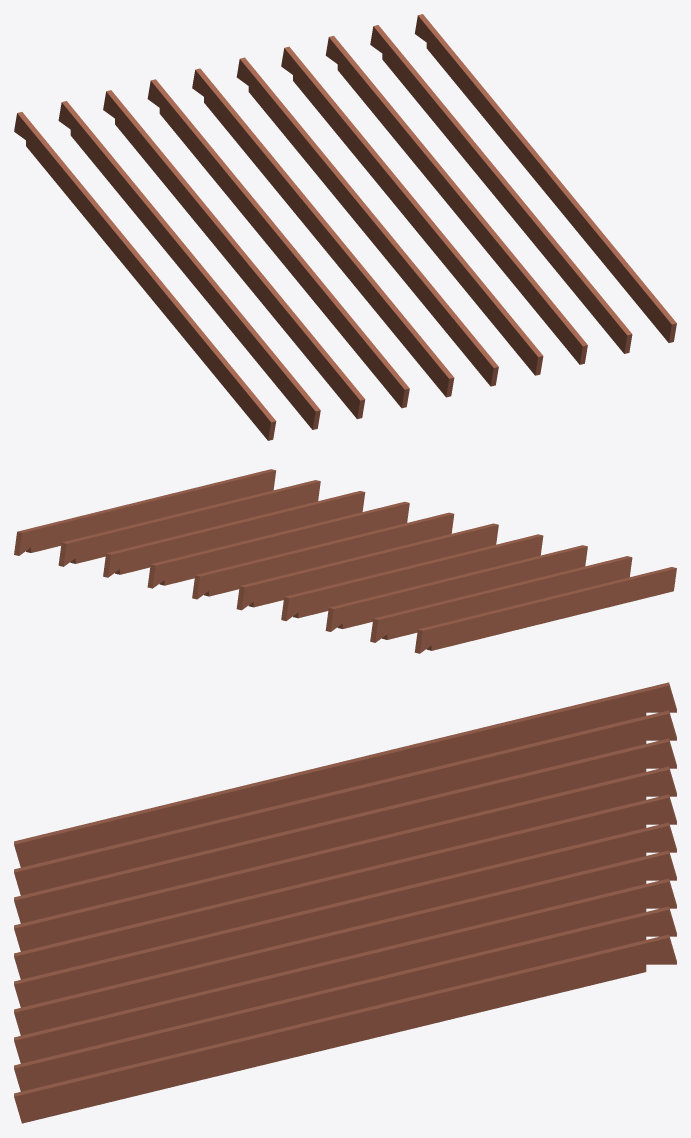
File: SM_Porch_Roof.fbx
The picture shows the model from 3 angles, top to bottom: view 1: azimuth 30°, elevation 25°; view 2: azimuth 150°, elevation 25°; view 3: azimuth 270°, elevation 25°; orthographic projection. The views are drawn at different scales.
Visible parts, largest first — view 1: SM_Porch_Roof; view 2: SM_Porch_Roof; view 3: SM_Porch_Roof.
Boxes of the visible parts, bbox=[...] form: SM_Porch_Roof: bbox=[14, 14, 676, 440]; SM_Porch_Roof: bbox=[14, 469, 676, 653]; SM_Porch_Roof: bbox=[14, 682, 676, 1123].
Bounding box in the file's own units: 196 × 66.59 × 215.
